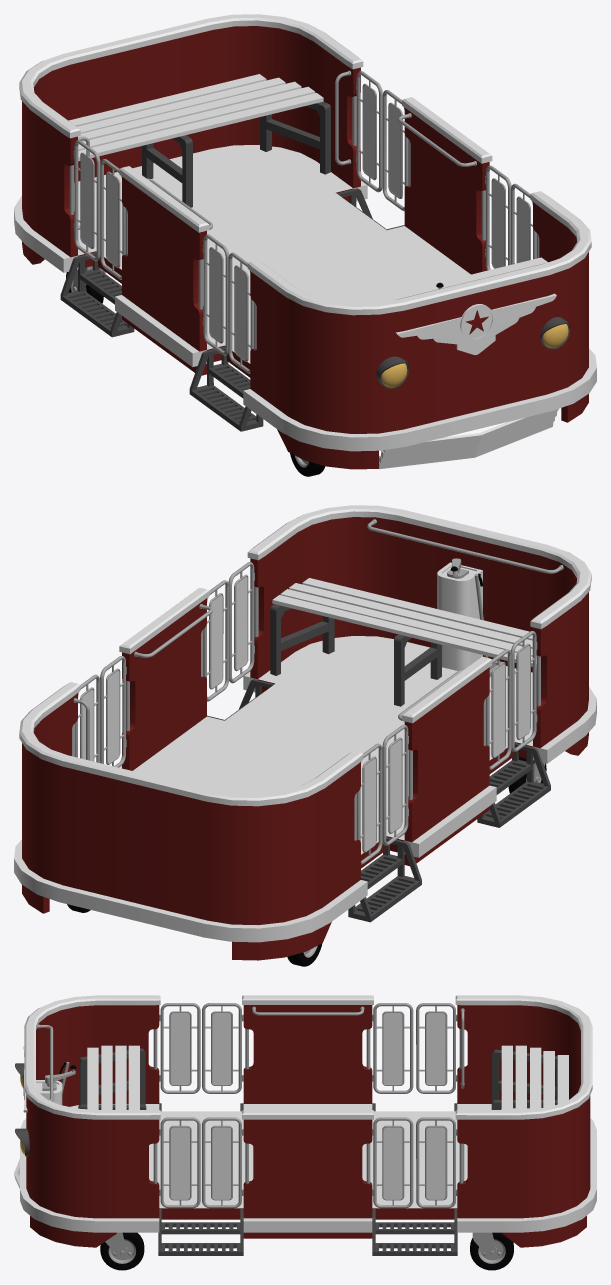
File: awesome cart by vladneko_3.fbx
The picture shows the model from 3 angles, top to bottom: view 1: azimuth 30°, elevation 25°; view 2: azimuth 150°, elevation 25°; view 3: azimuth 270°, elevation 25°; orthographic projection. The views are drawn at different scales.
Parts seen in each view (by area): view 1: Cube.001, Cube.003, Cube.005, Cube.006, Torus.017, Cube.007, Torus.015, Torus.019, Torus.020, Torus.016, Torus.018, Torus.002 (+6 smaller); view 2: Cube.001, Cube.004, Cube.005, Sphere.001, Torus.018, Torus.016, Torus.014, Torus.020, Torus.015, Torus.017, Torus.002, Torus.001 (+2 smaller); view 3: Cube.001, Cube.005, Cube.003, Cube.004, Torus.016, Torus.014, Torus.018, Torus.020, Torus.015, Torus.002, Torus.017, Torus.019 (+6 smaller).
Boxes of the visible parts, x1,y1,x2,y2 form: Cube.001: (14,14,596,469); Cube.003: (68,74,330,207); Cube.005: (60,188,404,431); Cube.006: (379,409,558,469); Torus.017: (73,140,100,261); Cube.007: (396,293,556,355); Torus.015: (202,234,229,355); Torus.019: (356,71,382,192); Torus.020: (382,90,408,211); Torus.016: (228,252,253,373); Torus.018: (100,159,125,279); Torus.002: (485,165,511,270); Cube.001: (14,505,596,960); Cube.004: (270,578,536,706); Cube.005: (207,679,550,922); Sphere.001: (437,558,482,670); Torus.018: (382,724,408,845); Torus.016: (511,631,537,751); Torus.014: (228,562,254,683); Torus.020: (100,656,126,767); Torus.015: (486,649,511,770); Torus.017: (357,743,382,864); Torus.002: (203,580,229,701); Torus.001: (73,519,563,760); Cube.001: (20,995,596,1247); Cube.005: (158,1103,457,1255); Cube.003: (491,1045,568,1109); Cube.004: (78,1045,146,1109); Torus.016: (159,1003,200,1093); Torus.014: (159,1117,200,1208); Torus.018: (372,1003,413,1093); Torus.020: (372,1117,413,1208); Torus.015: (202,1003,243,1093); Torus.002: (202,1117,243,1208); Torus.017: (416,1003,457,1093); Torus.019: (416,1117,457,1208).
Size of the model in its own units: 1352 by 850 by 2646.
